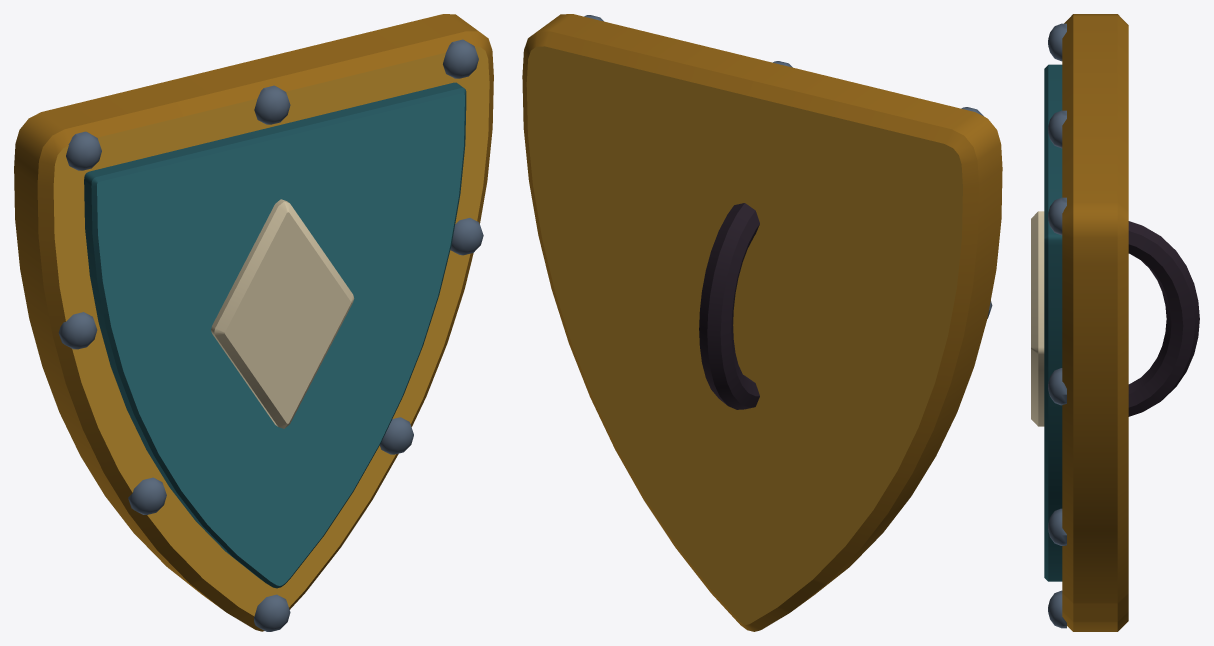
Rendered from HeaterShield_20.glb.
The picture shows the model from 3 angles, left to right: view 1: azimuth 30°, elevation 25°; view 2: azimuth 150°, elevation 25°; view 3: azimuth 270°, elevation 25°; orthographic projection. The views are drawn at different scales.
Visible parts, largest first — view 1: HeaterShield_20; view 2: HeaterShield_20; view 3: HeaterShield_20.
Part boxes in pixels (left/top/right/bottom): HeaterShield_20: left=14, top=14, right=493, bottom=631; HeaterShield_20: left=522, top=14, right=1002, bottom=631; HeaterShield_20: left=1031, top=14, right=1199, bottom=631.
Bounding box in the file's own units: 2.24 × 2.59 × 0.76.
